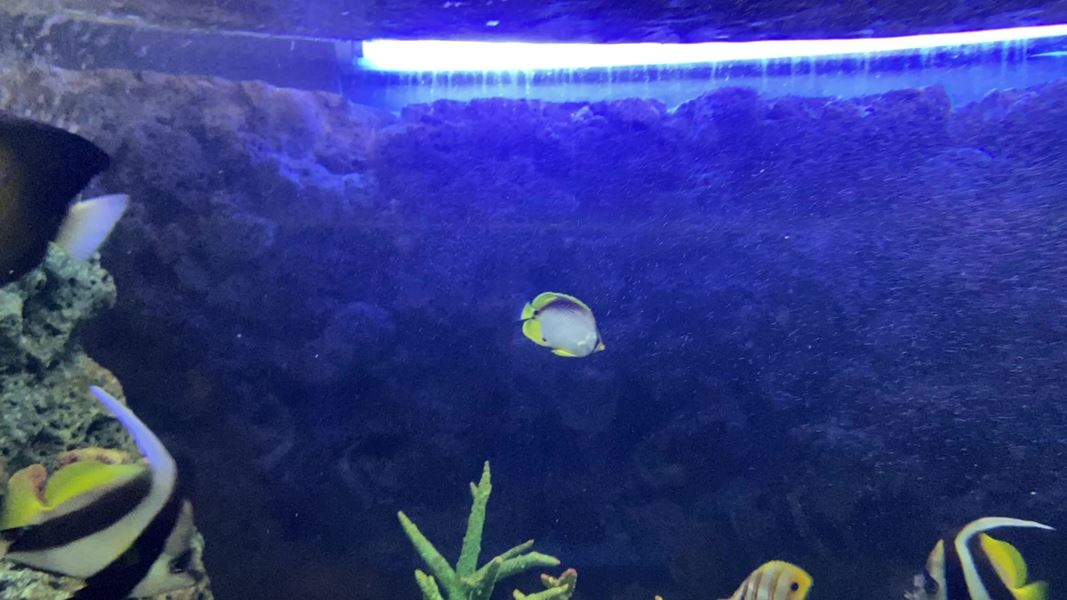Black-backed butterflyfish: (500, 284, 614, 365)
